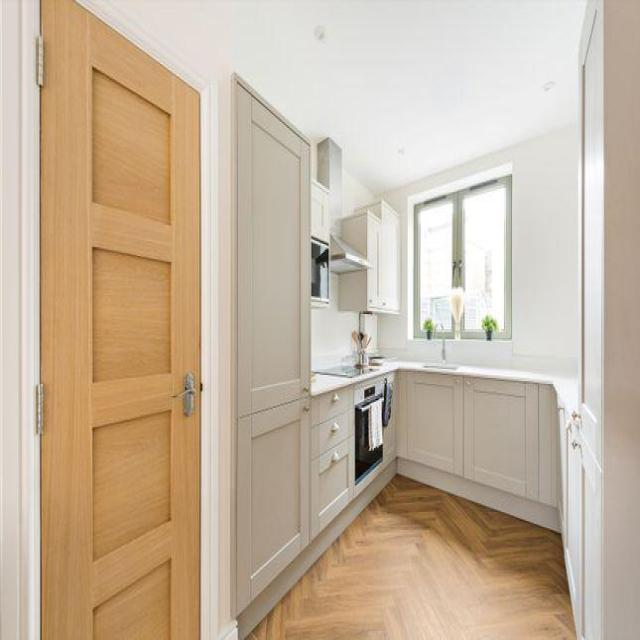Wall: (105, 1, 585, 194), (249, 476, 575, 638), (380, 124, 578, 376), (0, 0, 21, 638), (311, 274, 359, 368), (343, 171, 375, 215), (311, 141, 316, 179)
